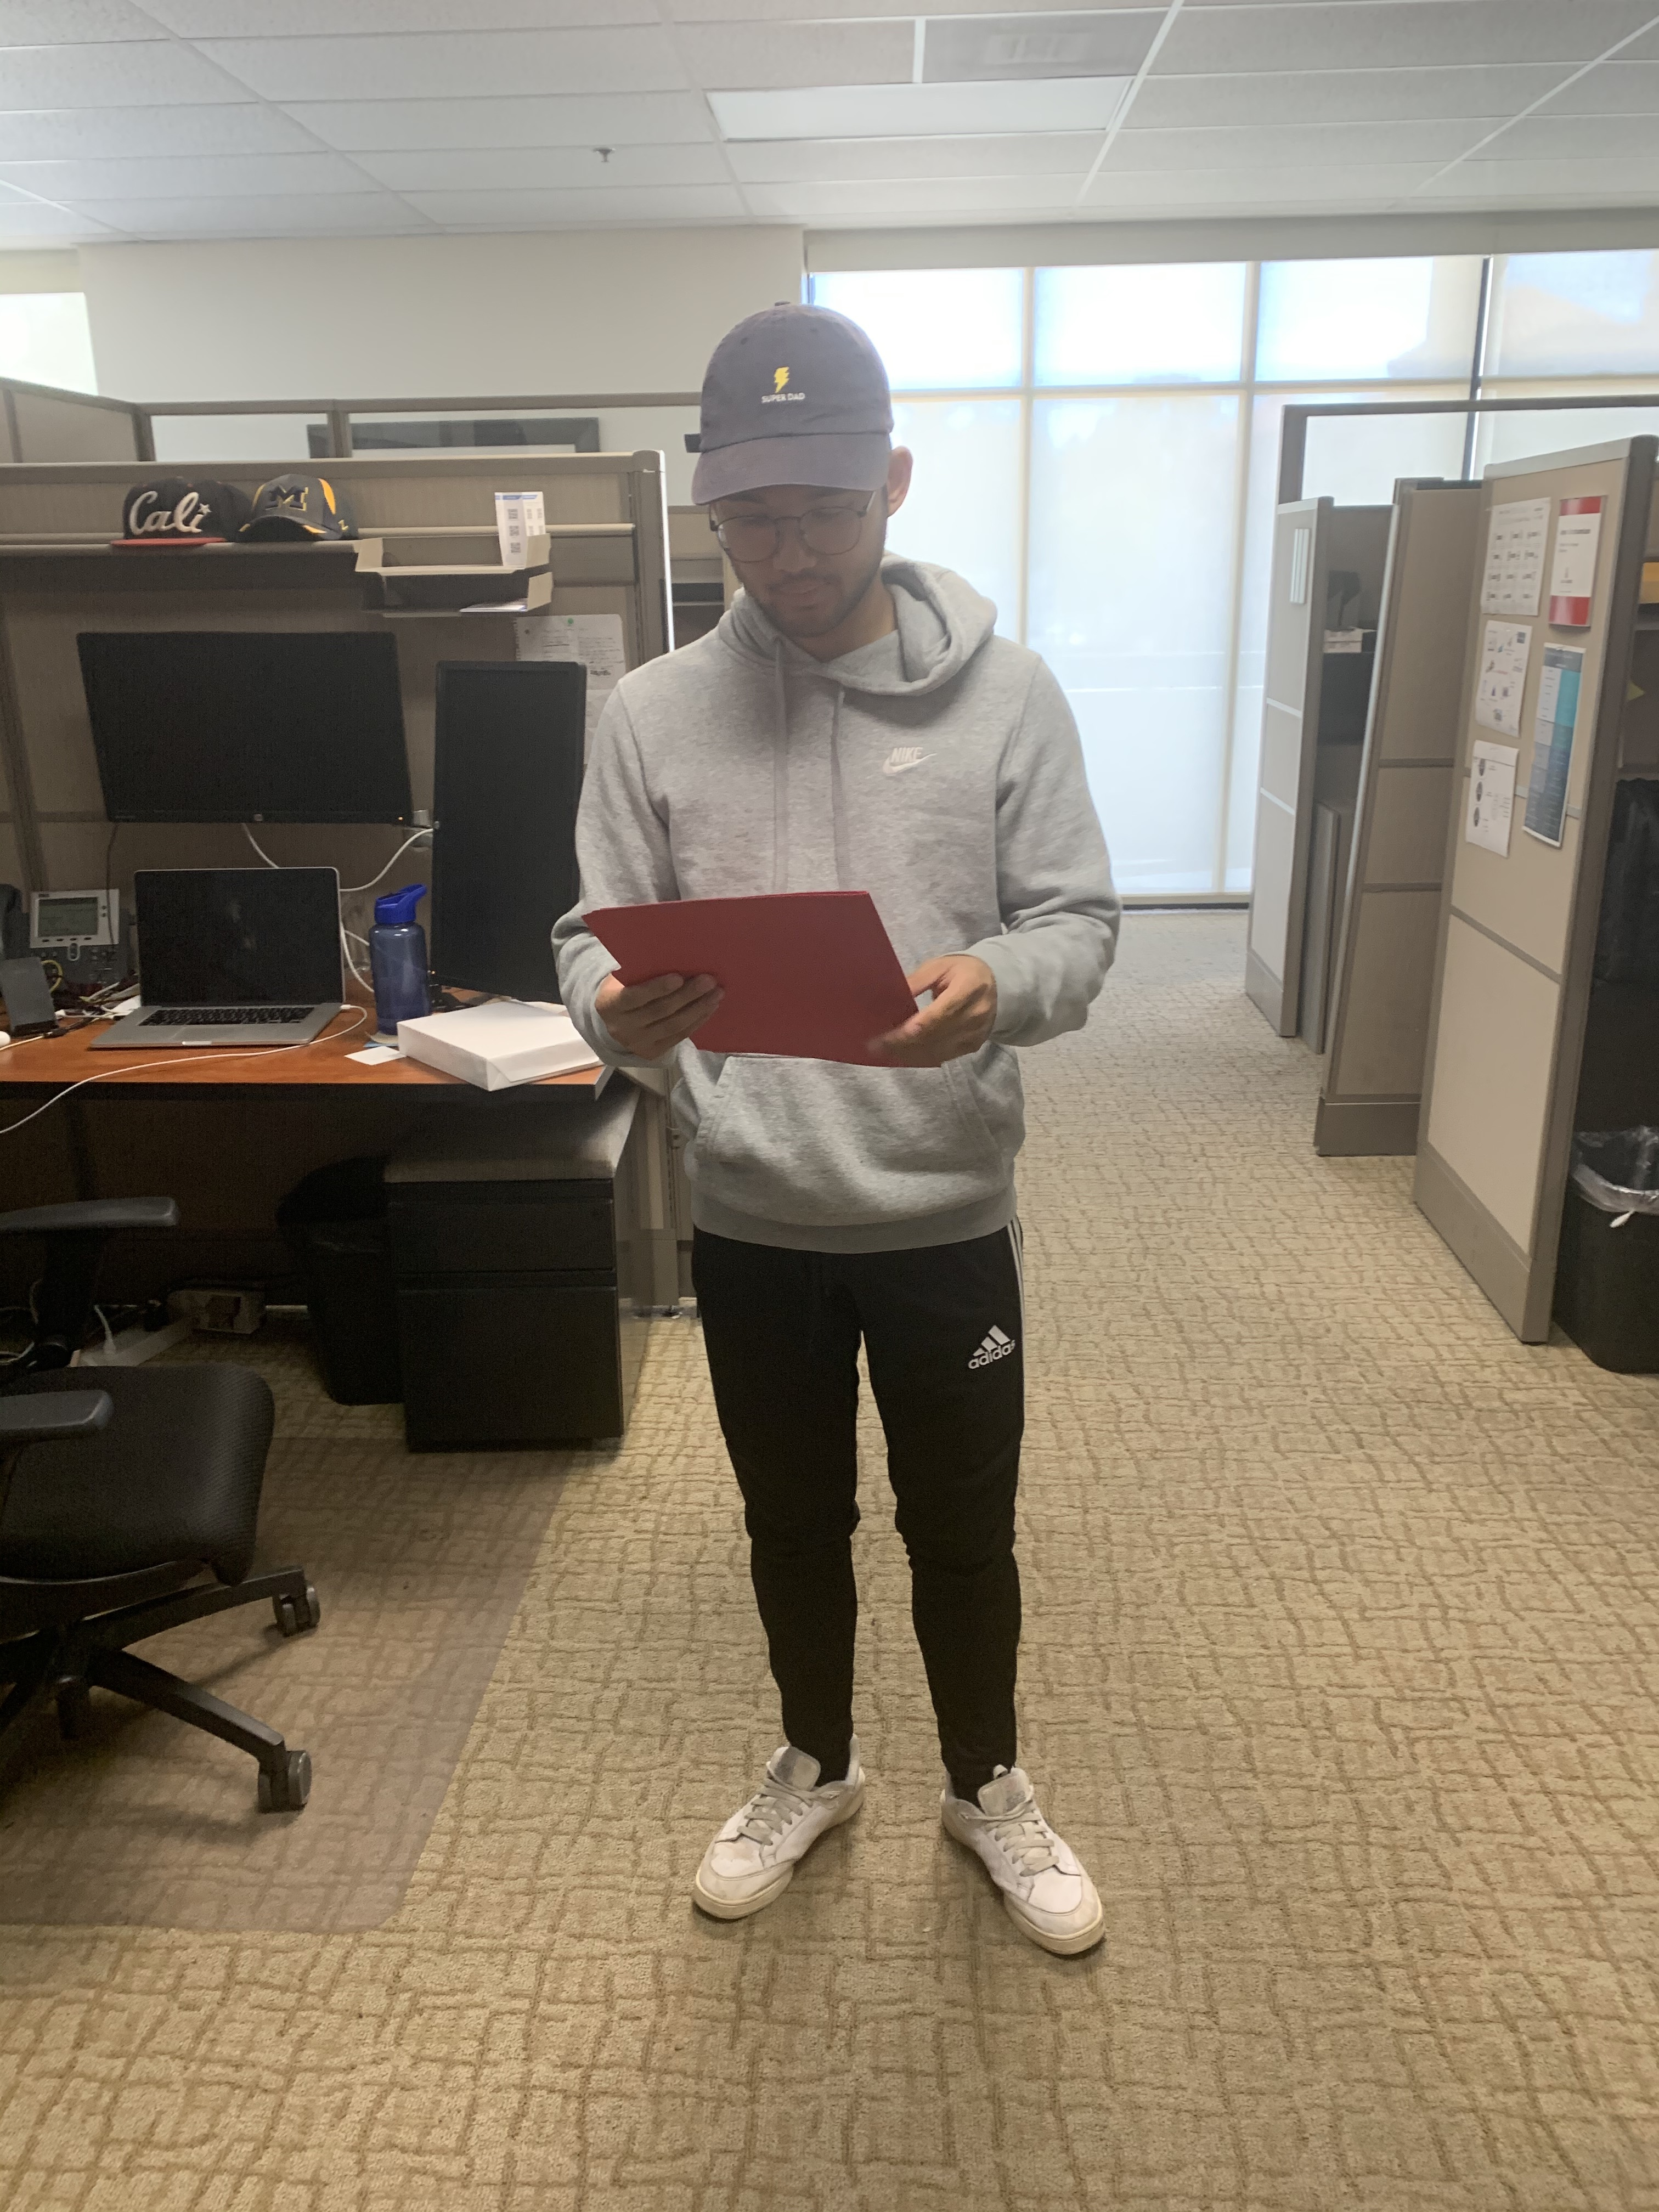red folder: (563, 880, 967, 1097)
